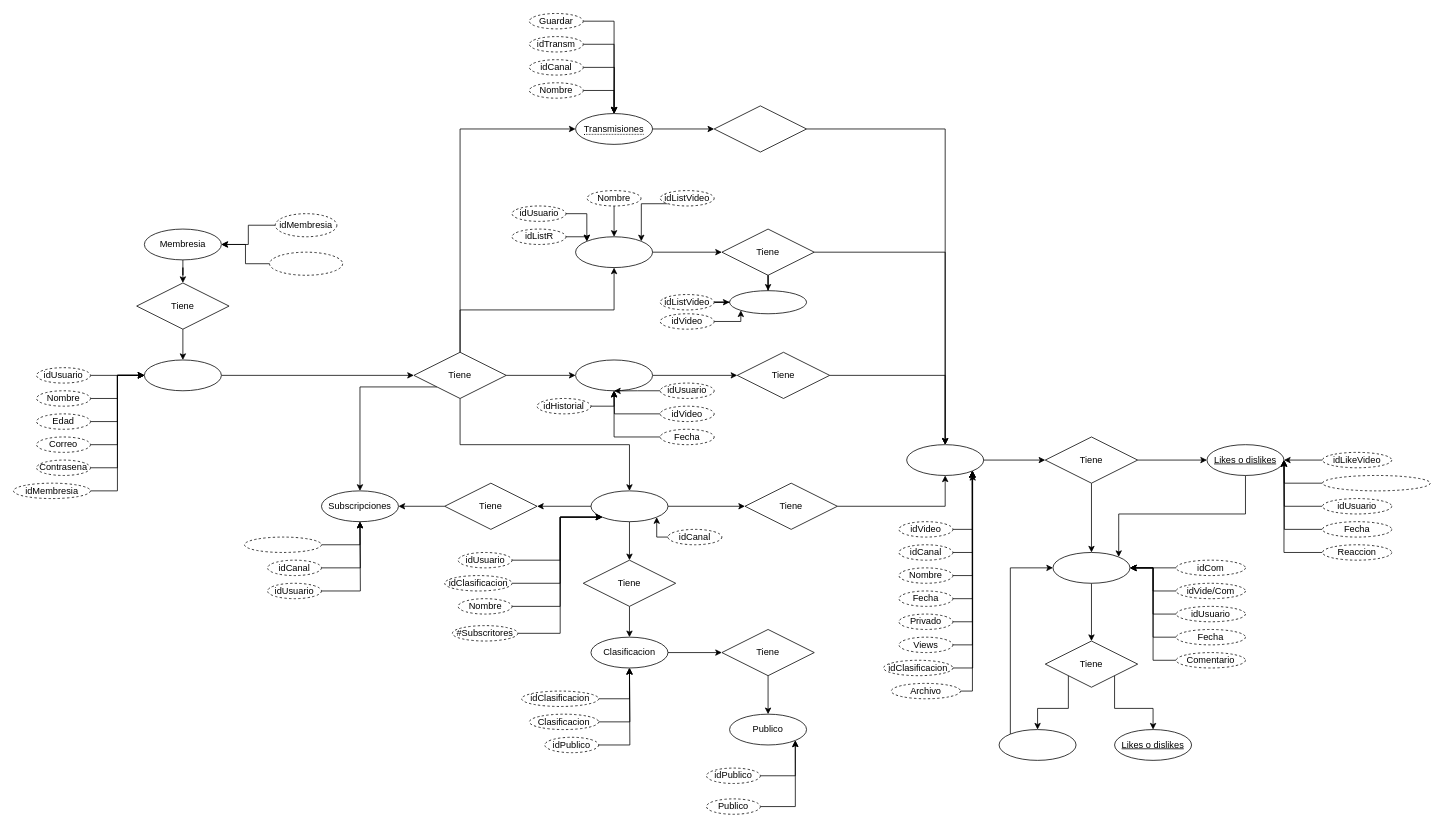
The diagram is 1444 pixels wide and 828 high, and some of its shapes have lost their labels. Here are the shapes that lost their labels. From the top down, the centre of each, then its label:
At [760,128]: "Guarda".
At [306,263]: "TipoMembresia".
At [614,252]: "Lista de reproduccion".
At [768,302]: "Lista Videos".
At [182,375]: "Usuario".
At [614,375]: "Historial".
At [945,459]: "Video".
At [1376,483]: "idVideo/Com".
At [629,506]: "Canales".
At [282,544]: "idSubscripciones".
At [1091,567]: "Comentarios".
At [1037,744]: "Respuesta".
